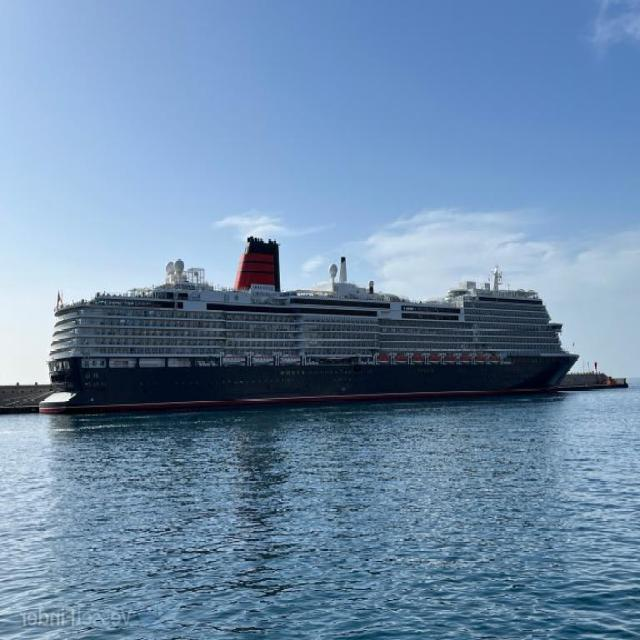PassengerShip: (3, 103, 585, 485)
